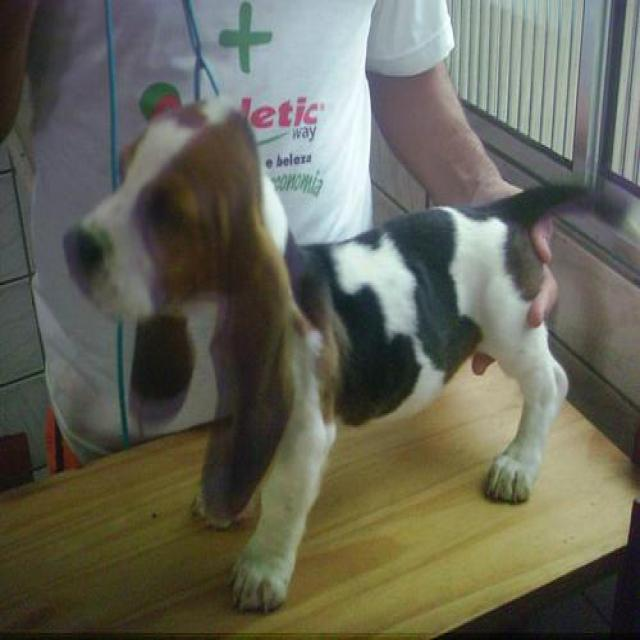basset: (61, 98, 639, 610)
